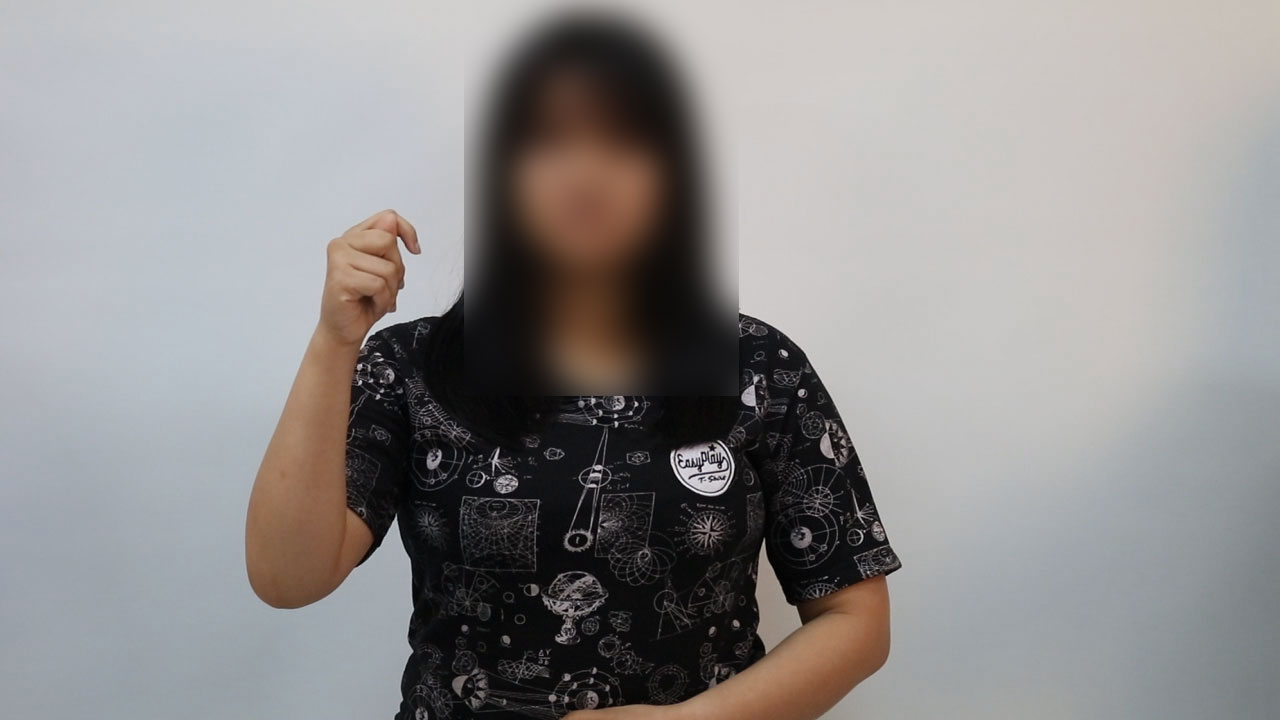tor: (297, 198, 442, 382)
